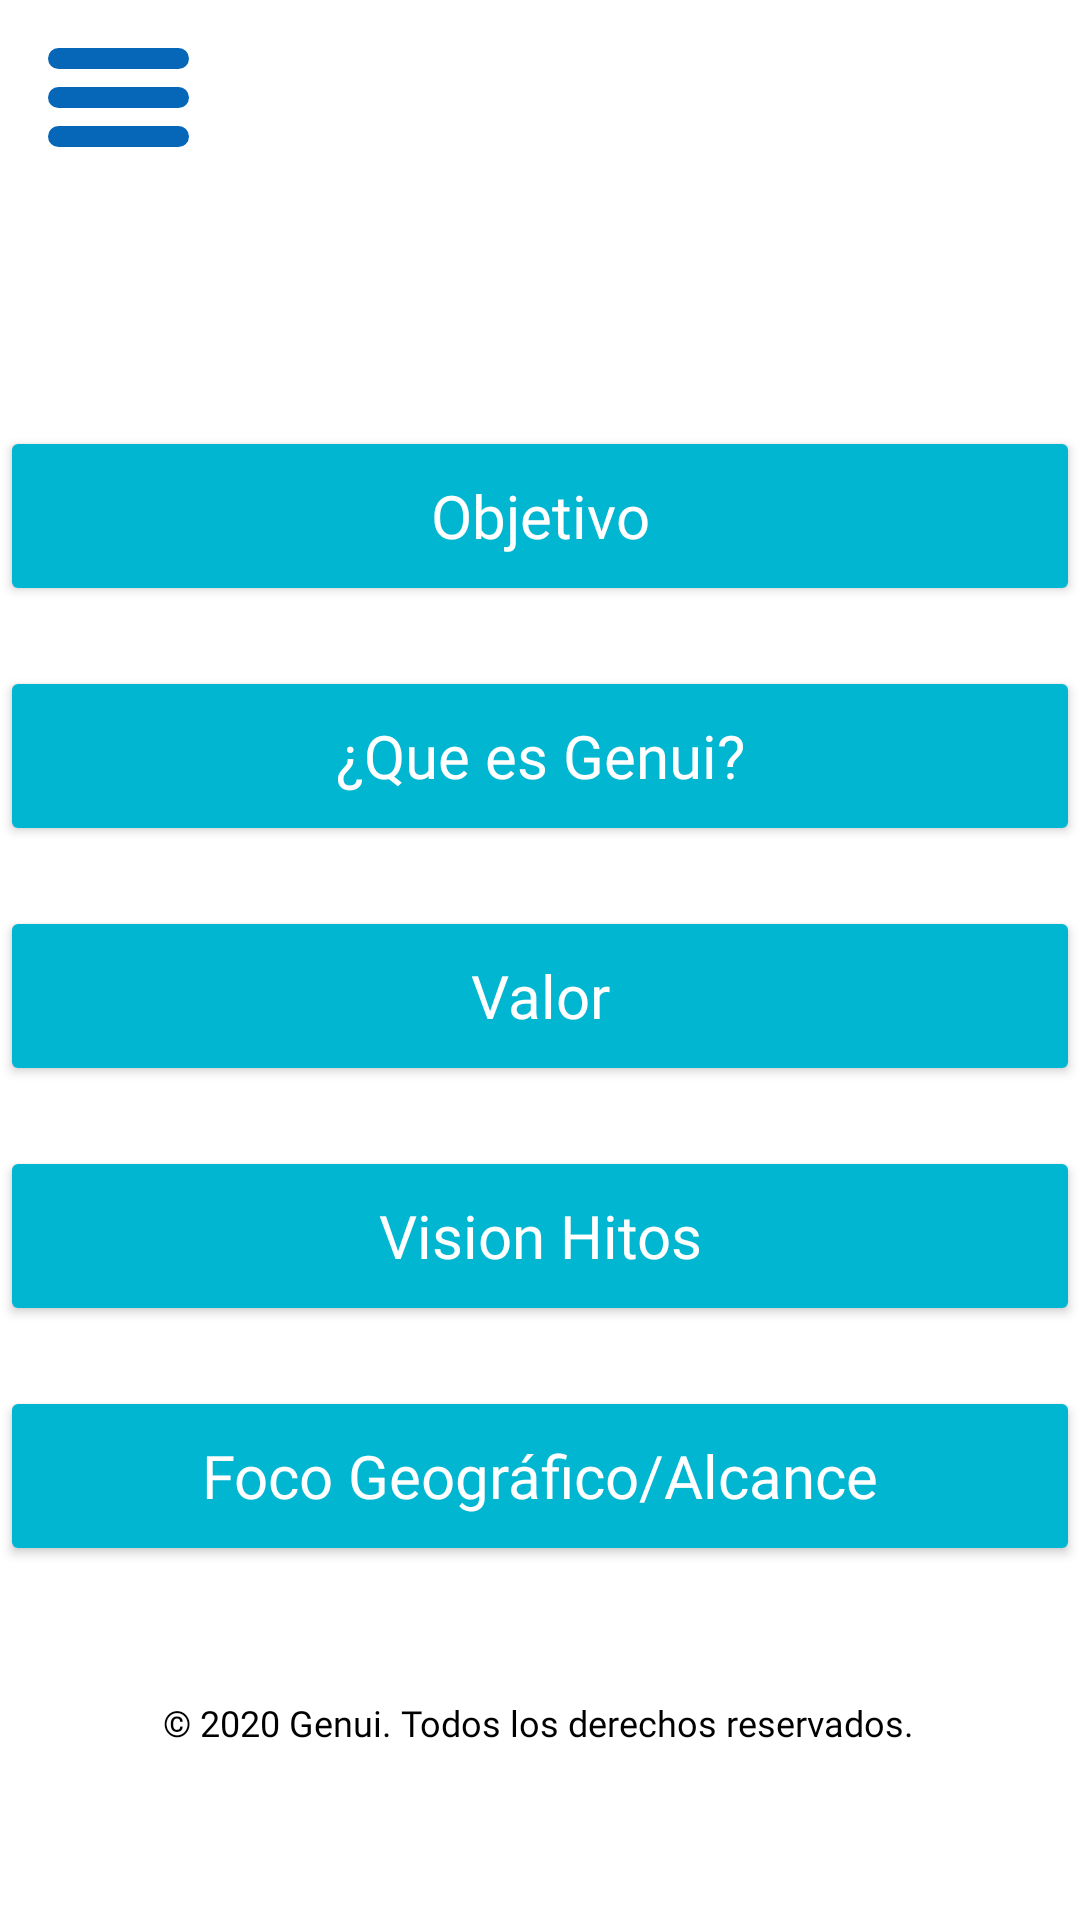

Icon bounding boxes for this 1080 x 1920 phone screenshot, format (x1, y1, x2, y2):
menu: (48, 48, 189, 147)
